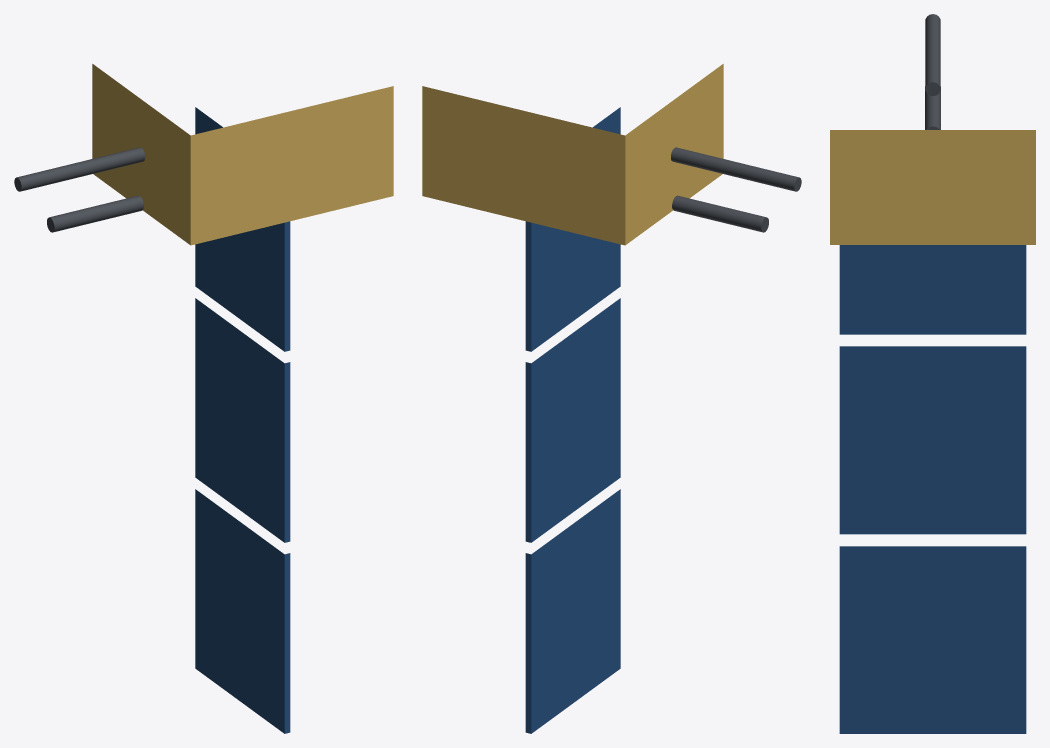
3 views of the same model, side by side, from view 1: azimuth 30°, elevation 25°; view 2: azimuth 150°, elevation 25°; view 3: azimuth 270°, elevation 25° (orthographic). The views are drawn at different scales.
Bounding box in the file's own units: 5.65 × 10.36 × 2.95.
